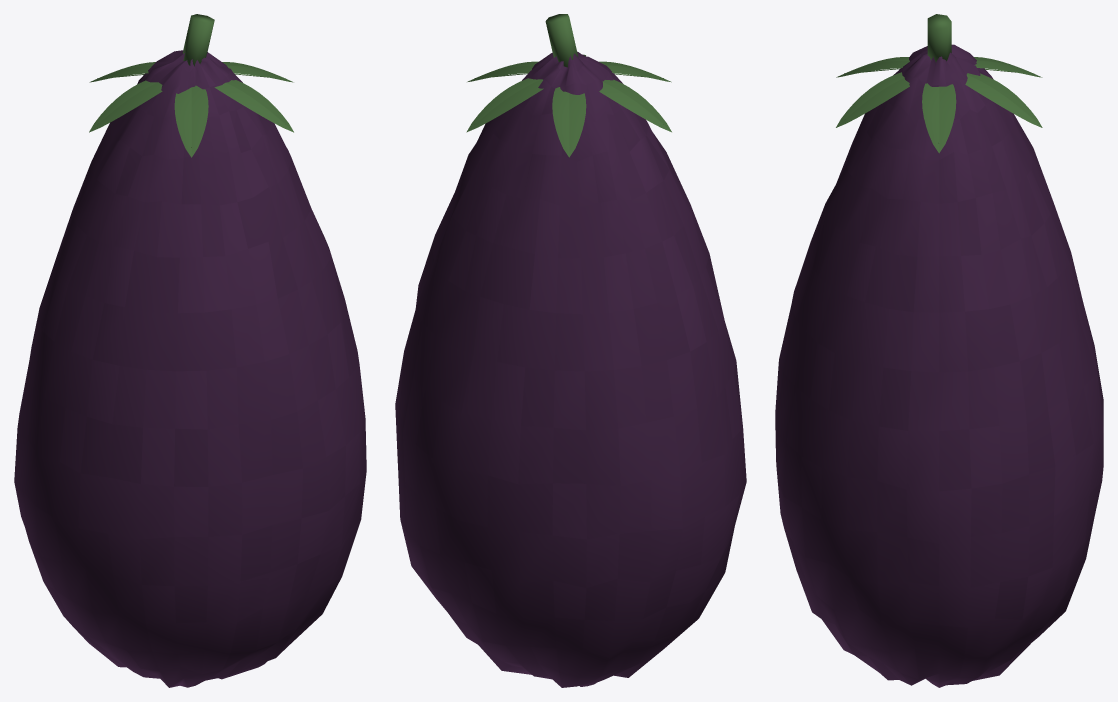
The model's file is Eggplant.glb.
The picture shows the model from 3 angles, left to right: view 1: azimuth 30°, elevation 25°; view 2: azimuth 150°, elevation 25°; view 3: azimuth 270°, elevation 25°; orthographic projection.
Parts seen in each view (by area): view 1: Eggplant; view 2: Eggplant; view 3: Eggplant.
Part boxes in pixels (x1,y1,x2,y2): Eggplant: (14, 14, 366, 687); Eggplant: (395, 14, 746, 687); Eggplant: (775, 14, 1103, 687).
Size of what is drawn, in the model's own units: 0.0807 by 0.1625 by 0.073.
